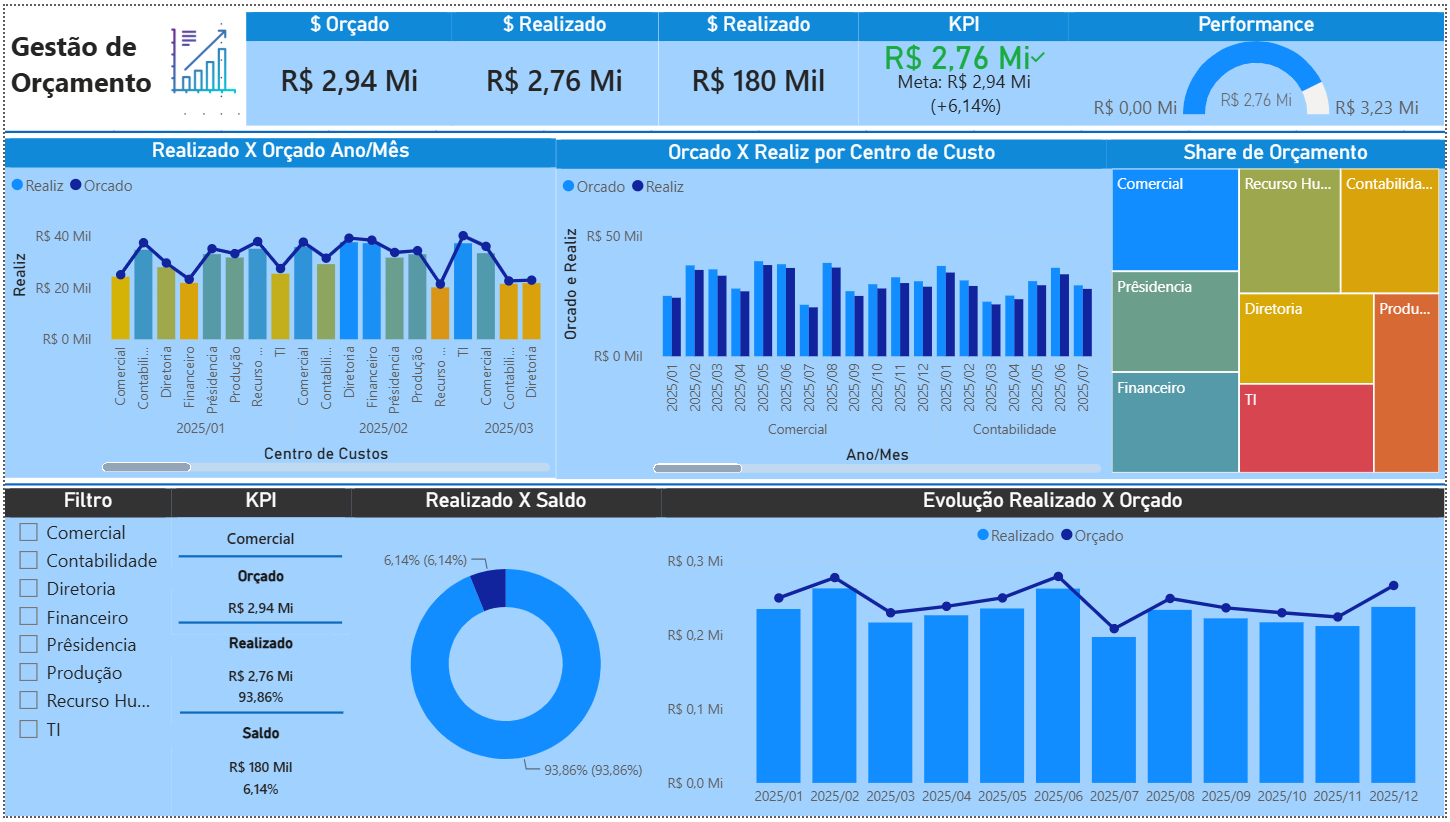

The dashboard page shown, as its layout file describes it:
{"tool":"powerbi","page":{"name":"Painel","canvas":[1280,720],"ordinal":0},"visuals":[{"type":"textbox","box":[9.7,13.9,147.5,101.6],"z":0},{"type":"image","box":[157.2,30.6,57,69.6],"z":1000},{"type":"shape","box":[0,115.5,1280,22.3],"z":2000},{"type":"cardVisual","title":"$ Orçado","fields":{"Data":["Medida.01 Valor Orcado"]},"box":[231.4,14.3,184.3,101.4],"z":3000},{"type":"cardVisual","title":"$ Realizado","fields":{"Data":["Medida.02 Valor Realiz"]},"box":[397.9,13.9,183.7,101.6],"z":4000},{"type":"cardVisual","title":"$ Realizado","fields":{"Data":["Medida.05 Saldo"]},"box":[581.6,13.9,178.1,101.6],"z":5000},{"type":"kpi","title":"KPI","fields":{"Indicator":["Medida.02 Valor Realiz"],"TrendLine":["D_TEMPO.Ano"],"Goal":["Medida.01 Valor Orcado"]},"box":[760,14.3,187.1,101.4],"z":6000},{"type":"gauge","title":"Performance","fields":{"Y":["Medida.02 Valor Realiz"],"MaxValue":["Medida.06 Valor Max"]},"box":[947.1,14.3,332.9,101.4],"z":7000},{"type":"lineClusteredColumnComboChart","title":"Realizado X Orçado Ano/Mês","fields":{"Y":["Medida.02 Valor Realiz"],"Y2":["Medida.01 Valor Orcado"],"Category":["D_TEMPO.Ano/Mes","D_centro_custo.Centro de Custos"]},"box":[10,138.6,490,302.9],"z":8000},{"type":"clusteredColumnChart","title":"Orcado X Realiz por Centro de Custo","fields":{"Category":["D_centro_custo.Centro de Custos","D_TEMPO.Ano/Mes"],"Y":["Medida.01 Valor Orcado","Medida.02 Valor Realiz"]},"box":[499.5,137.7,489.7,301.9],"z":9000},{"type":"treemap","title":"Share de Orçamento","fields":{"Group":["D_centro_custo.Centro de Custos"],"Values":["Medida.01 Valor Orcado"]},"box":[989.2,137.7,290.8,301.9],"z":10000},{"type":"slicer","title":"Filtro","fields":{"Values":["D_centro_custo.Centro de Custos"]},"box":[10,460,147.1,260],"z":11000},{"type":"cardVisual","title":"KPI","fields":{"Rows":["D_centro_custo.Centro de Custos"],"Data":["Medida.01 Valor Orcado","Medida.02 Valor Realiz","Medida.03 % Realiz","Medida.04 % Saldo","Medida.05 Saldo"]},"box":[157.1,460,148.6,260],"z":12000},{"type":"donutChart","title":"Realizado X Saldo","fields":{"Y":["Medida.03 % Realiz","Medida.04 % Saldo"]},"box":[305.7,460,277.1,260],"z":13000},{"type":"lineClusteredColumnComboChart","title":"Evolução Realizado X Orçado","fields":{"Category":["D_TEMPO.Ano/Mes"],"Y":["Medida.02 Valor Realiz"],"Y2":["Medida.01 Valor Orcado"]},"box":[582.9,460,697.1,260],"z":14000},{"type":"shape","box":[0,438.6,1280,21.4],"z":15000}]}

Visuals, with their boxes in screenshot pixels (x1, y1, x2, y2), scaled from the page's 1280x720 canvas onto the 1450x822 screenshot:
textbox: (11, 16, 178, 132)
image: (178, 35, 243, 114)
shape: (0, 132, 1449, 157)
"$ Orçado" cardVisual: (262, 16, 471, 132)
"$ Realizado" cardVisual: (451, 16, 659, 132)
"$ Realizado" cardVisual: (659, 16, 861, 132)
"KPI" kpi: (861, 16, 1073, 132)
"Performance" gauge: (1073, 16, 1449, 132)
"Realizado X Orçado Ano/Mês" lineClusteredColumnComboChart: (11, 158, 566, 504)
"Orcado X Realiz por Centro de Custo" clusteredColumnChart: (566, 157, 1121, 502)
"Share de Orçamento" treemap: (1121, 157, 1449, 502)
"Filtro" slicer: (11, 525, 178, 821)
"KPI" cardVisual: (178, 525, 346, 821)
"Realizado X Saldo" donutChart: (346, 525, 660, 821)
"Evolução Realizado X Orçado" lineClusteredColumnComboChart: (660, 525, 1449, 821)
shape: (0, 501, 1449, 525)
